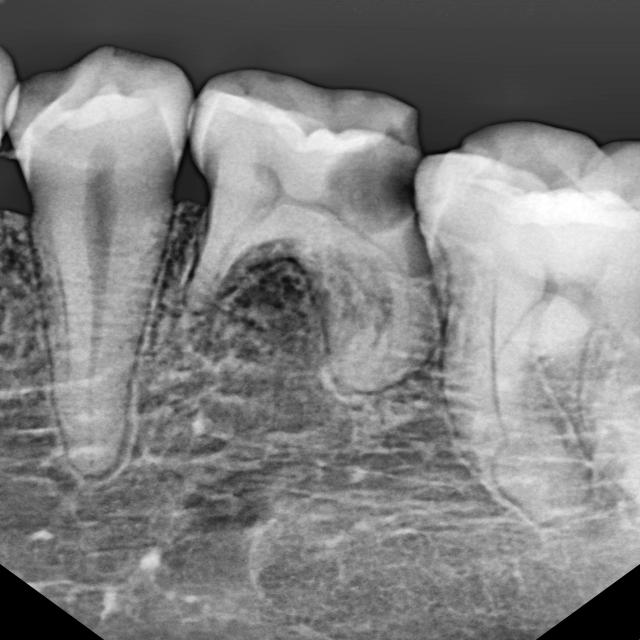Caries: (170, 18, 454, 397)
